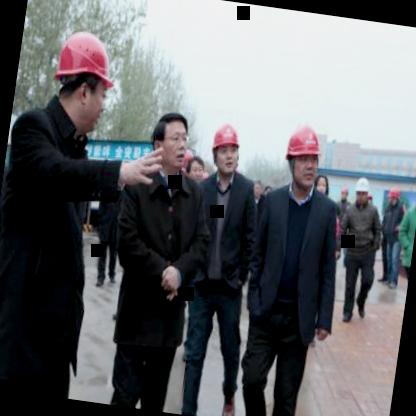head: (148, 106, 194, 168), (180, 150, 209, 192), (310, 174, 332, 208), (413, 179, 416, 208)
helmet: (46, 24, 122, 130), (278, 120, 326, 193), (207, 119, 245, 179), (351, 172, 374, 206), (386, 181, 402, 209)
